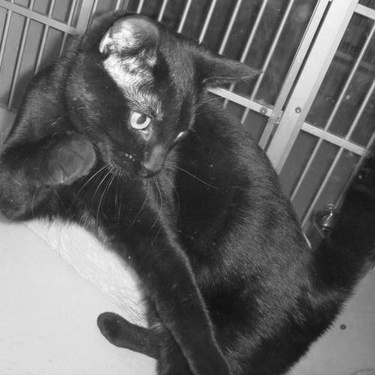cat: (2, 10, 368, 370)
